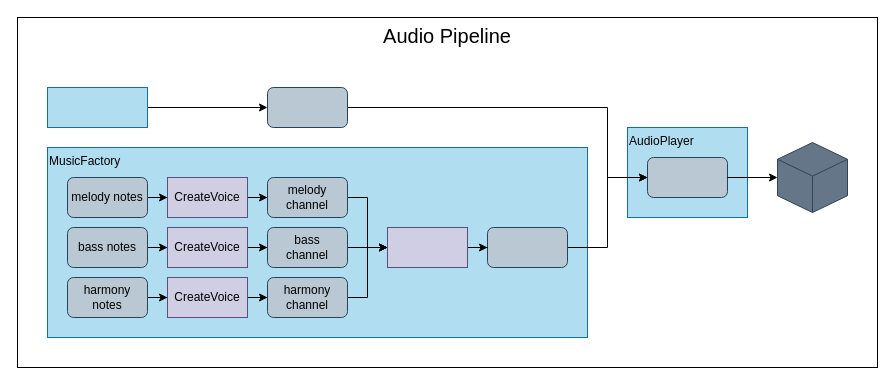
The diagram is 895 pixels wide and 385 high, and some of its shapes have lost their labels. Each missing label, with the centre of its shape:
CreateMixer: pixel 427 247
mixer: pixel 687 177
music channel: pixel 527 247
sound channel: pixel 307 107
SoundCard: pixel 812 177
SoundFactory: pixel 97 107
